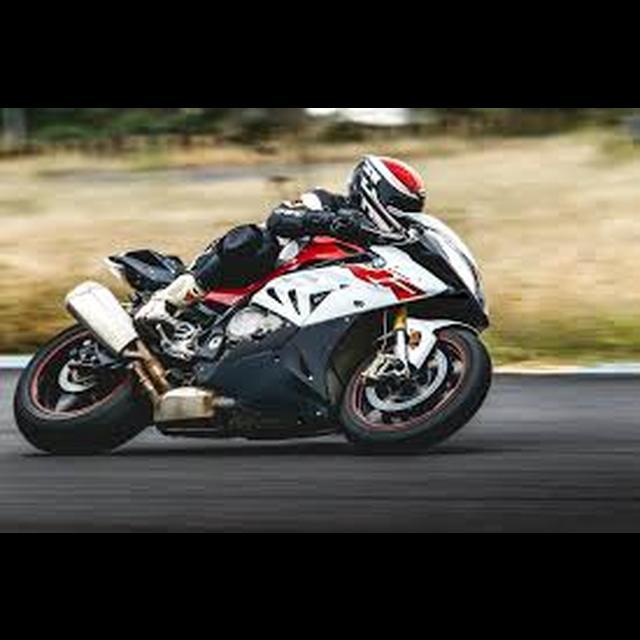motorcycle: (9, 203, 496, 462)
